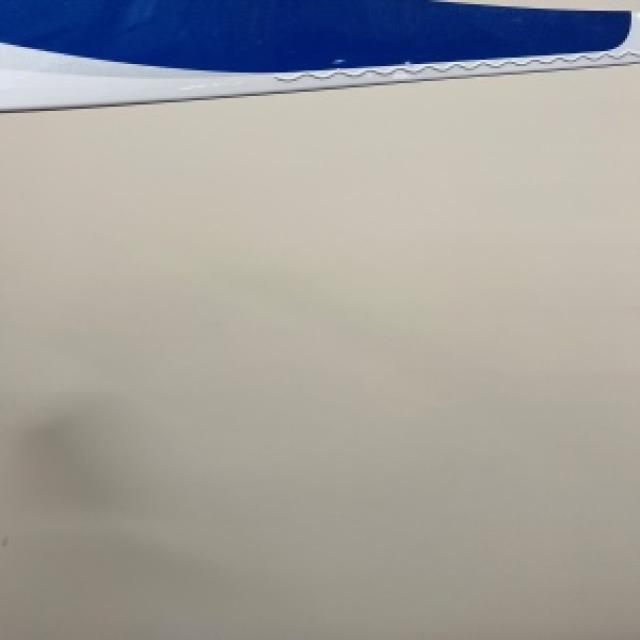healthy: (0, 0, 638, 109)
